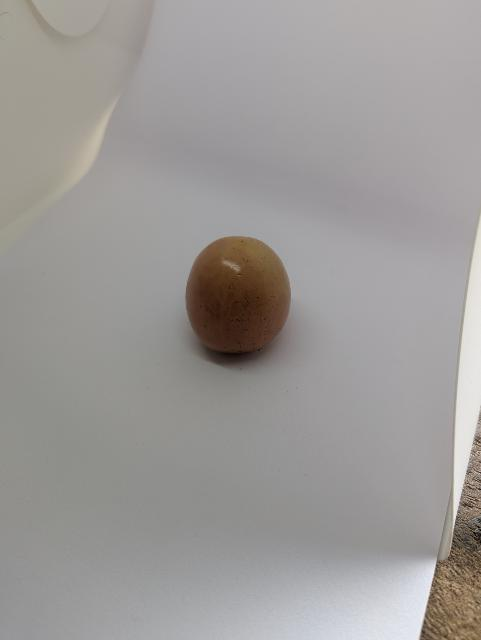turning: (184, 227, 299, 359)
